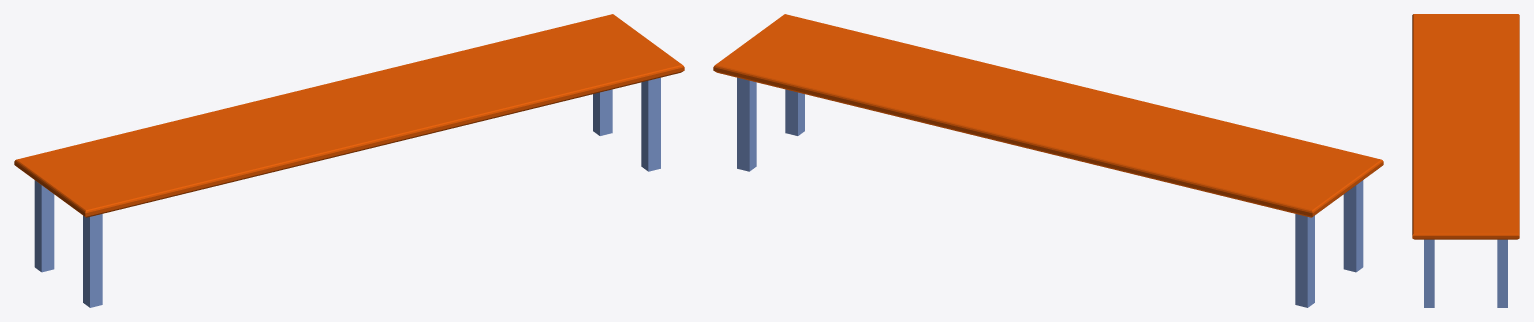
The model's file is Table.fbx.
The picture shows the model from 3 angles, left to right: view 1: azimuth 30°, elevation 25°; view 2: azimuth 150°, elevation 25°; view 3: azimuth 270°, elevation 25°; orthographic projection. The views are drawn at different scales.
Visible parts, largest first — view 1: Table; view 2: Table; view 3: Table.
Part boxes in pixels (<box>): Table: <box>14,14,684,307</box>; Table: <box>713,14,1383,307</box>; Table: <box>1412,14,1519,307</box>.
Size of the model in its own units: 8.44 by 1.42 by 1.73.
